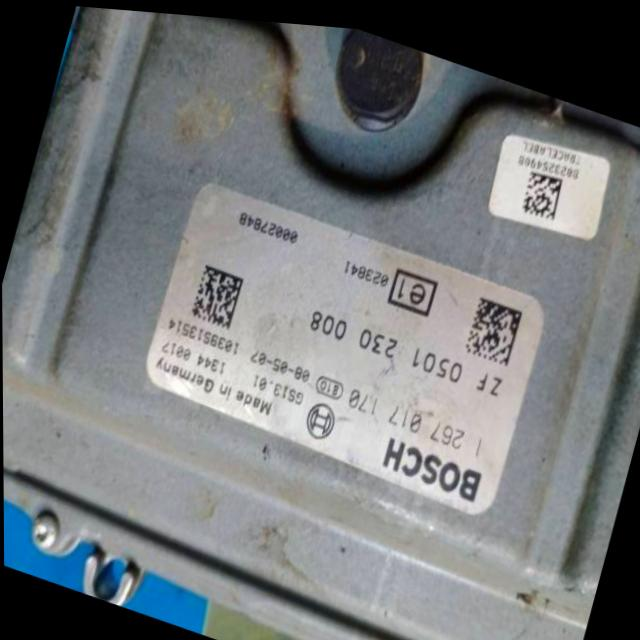datamatrix: (462, 287, 522, 360), (188, 259, 244, 328), (519, 158, 565, 214)
